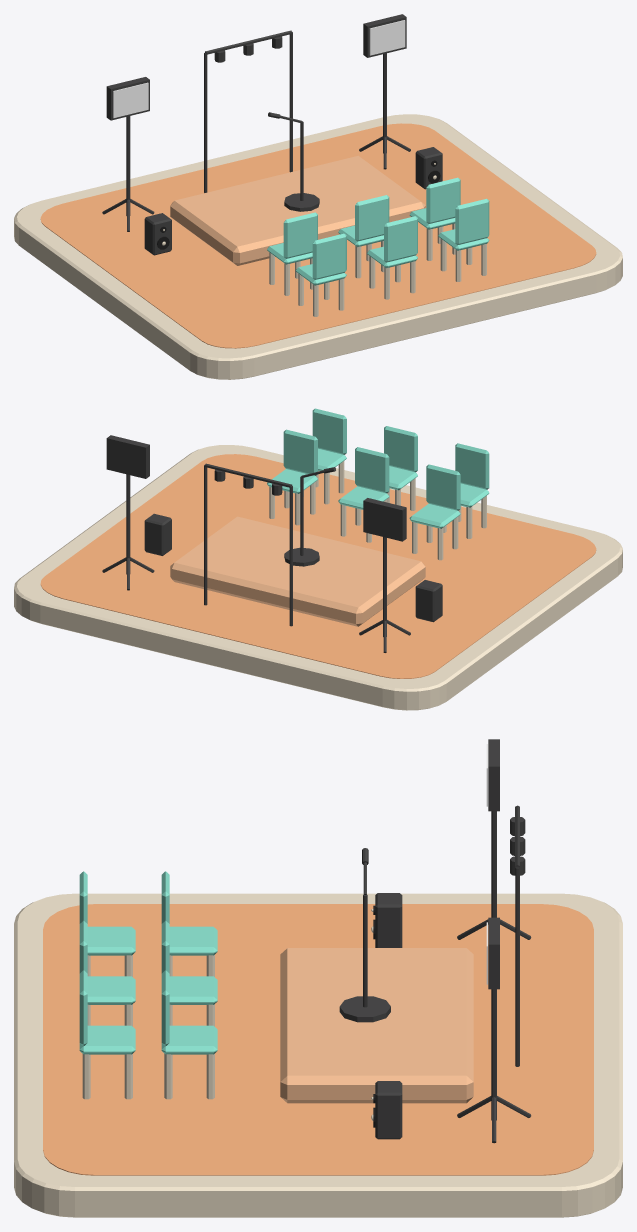
The model's file is room.fbx.
The picture shows the model from 3 angles, top to bottom: view 1: azimuth 30°, elevation 25°; view 2: azimuth 150°, elevation 25°; view 3: azimuth 270°, elevation 25°; orthographic projection. The views are drawn at different scales.
Visible parts, largest first — view 1: COM-02 Floor Surface, COM-01 Rounded Base Direct, Low stage, Backrest.005, Backrest.003, Backrest.004, Backrest, Backrest.002, Backrest.001, Diffuser.001, Diffuser, Enclosure (+6 smaller); view 2: COM-02 Floor Surface, COM-01 Rounded Base Direct, Low stage, Light panel, Light panel.001, Backrest.001, Backrest, Backrest.002, Backrest.003, Backrest.005, Backrest.004, Enclosure.001 (+11 smaller); view 3: COM-02 Floor Surface, COM-01 Rounded Base Direct, Low stage, Enclosure.001, Enclosure, Seat.002, Seat.005, Seat, Seat.003, Seat.004, Seat.001, Base (+6 smaller).
Part boxes in pixels (bbox=[...]): COM-02 Floor Surface: bbox=[40, 123, 596, 348]; COM-01 Rounded Base Direct: bbox=[14, 114, 622, 379]; Low stage: bbox=[170, 155, 425, 265]; Backrest.005: bbox=[455, 198, 489, 245]; Backrest.003: bbox=[312, 233, 346, 279]; Backrest.004: bbox=[384, 216, 417, 262]; Backrest: bbox=[283, 212, 317, 258]; Backrest.002: bbox=[426, 177, 460, 223]; Backrest.001: bbox=[355, 195, 389, 241]; Diffuser.001: bbox=[369, 20, 405, 55]; Diffuser: bbox=[113, 82, 148, 118]; Enclosure: bbox=[144, 213, 171, 255]; COM-02 Floor Surface: bbox=[40, 454, 596, 678]; COM-01 Rounded Base Direct: bbox=[14, 445, 622, 710]; Low stage: bbox=[170, 516, 425, 626]; Light panel: bbox=[363, 498, 406, 541]; Light panel.001: bbox=[106, 435, 149, 478]; Backrest.001: bbox=[355, 447, 389, 493]; Backrest: bbox=[426, 464, 460, 510]; Backrest.002: bbox=[283, 429, 317, 475]; Backrest.003: bbox=[455, 443, 489, 489]; Backrest.005: bbox=[312, 408, 346, 454]; Backrest.004: bbox=[384, 426, 417, 472]; Enclosure.001: bbox=[144, 513, 171, 555]; COM-02 Floor Surface: bbox=[43, 904, 593, 1175]; COM-01 Rounded Base Direct: bbox=[14, 893, 622, 1217]; Low stage: bbox=[280, 948, 473, 1103]; Enclosure.001: bbox=[375, 1081, 402, 1139]; Enclosure: bbox=[375, 893, 402, 947]; Seat.002: bbox=[161, 1025, 217, 1054]; Seat.005: bbox=[79, 1025, 135, 1054]; Seat: bbox=[169, 926, 217, 955]; Seat.003: bbox=[87, 926, 135, 955]; Seat.004: bbox=[87, 976, 135, 1004]; Seat.001: bbox=[169, 976, 217, 1004]; Base: bbox=[339, 996, 390, 1022].
Bounding box in the file's own units: 600 × 222 × 520.
